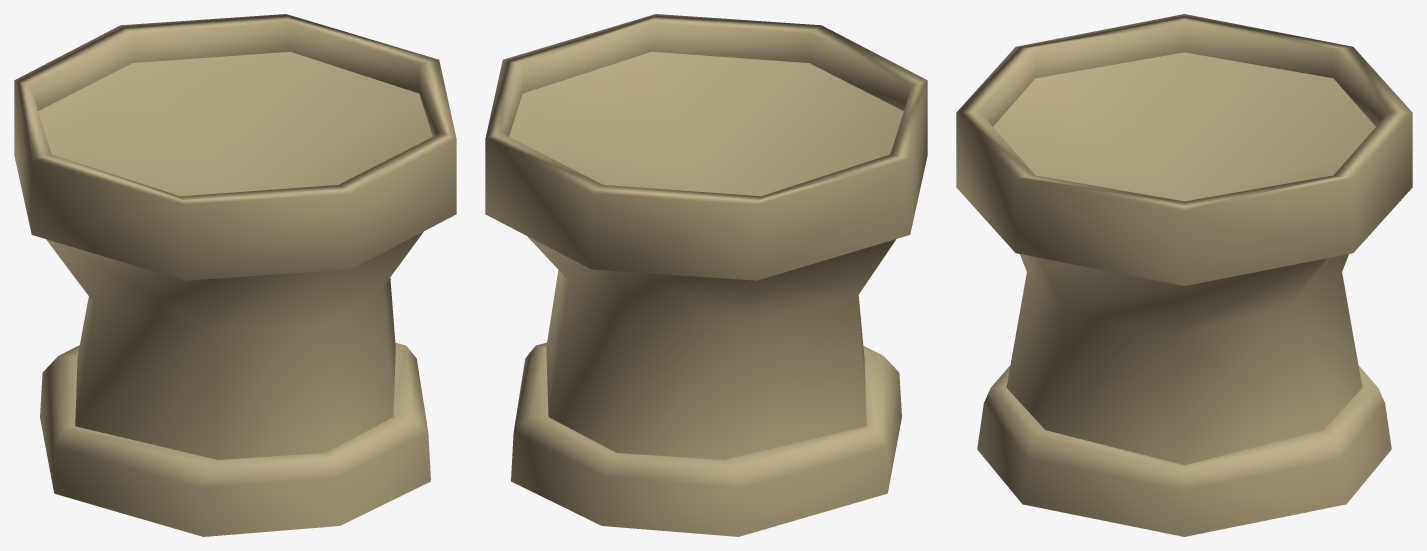
The model's file is Maze_Font.fbx.
3 renders of one model, left to right at view 1: azimuth 30°, elevation 25°; view 2: azimuth 150°, elevation 25°; view 3: azimuth 270°, elevation 25°, orthographic.
Parts seen in each view (by area): view 1: pPlane8; view 2: pPlane8; view 3: pPlane8.
Part boxes in pixels (box(x1,y1,x2,y2)): pPlane8: box(14, 14, 456, 536); pPlane8: box(485, 14, 927, 536); pPlane8: box(956, 14, 1412, 536).
Bounding box in the file's own units: 137 × 109 × 134.
